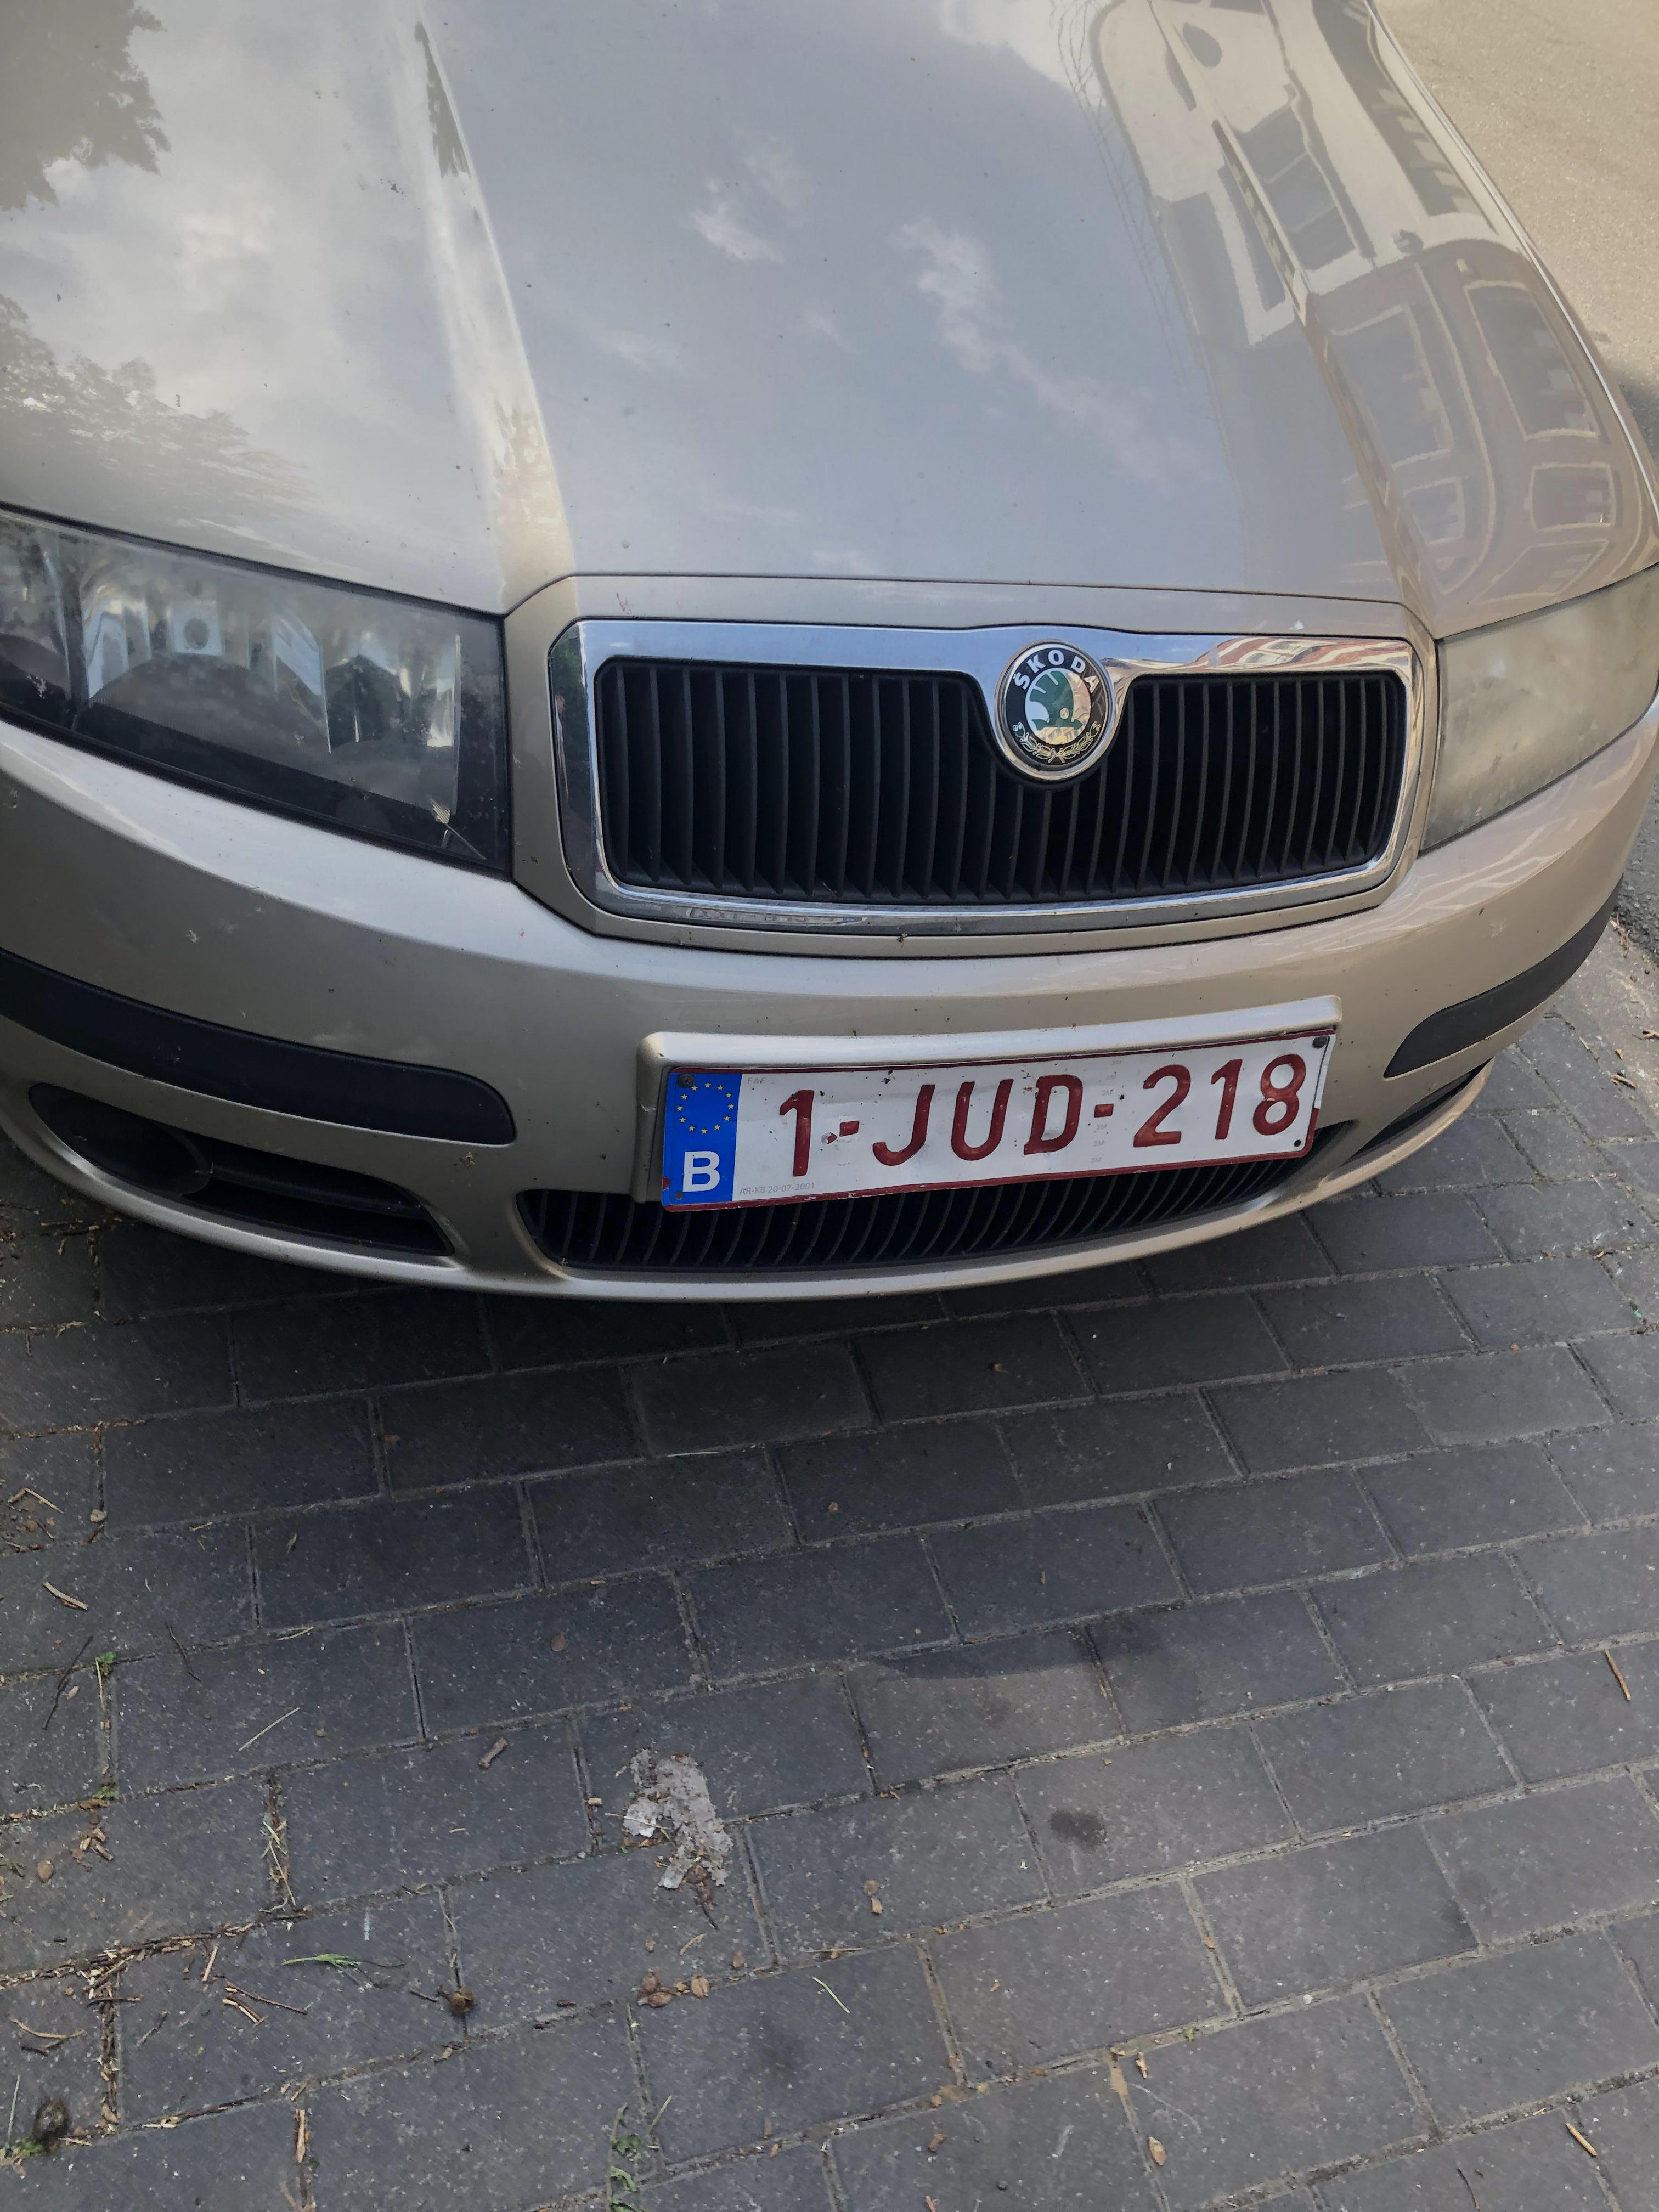plate: (608, 992, 1358, 1226)
